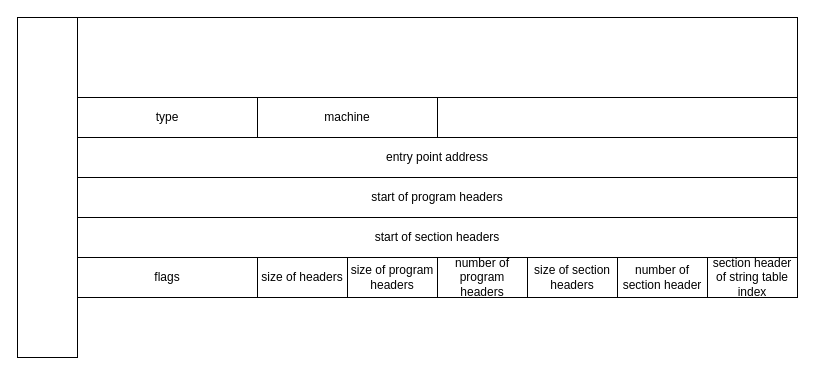
Image size: 815x375. Some labels were removed from this diagram. Each missing label, with the centre of its shape:
magic number: (437,57)
version: (617,117)
